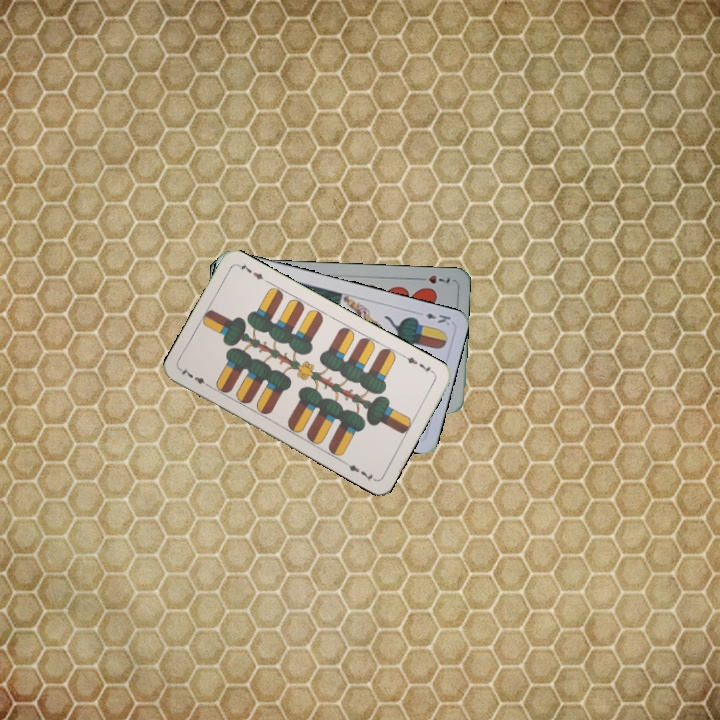E7: (177, 364, 214, 390), (400, 351, 437, 376)
EK: (421, 309, 453, 328)
H7: (414, 271, 452, 286)
